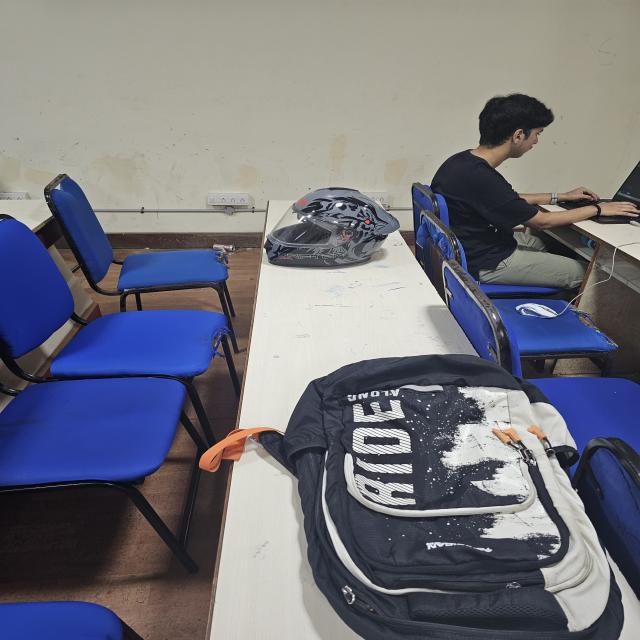helmet: (264, 188, 399, 267)
